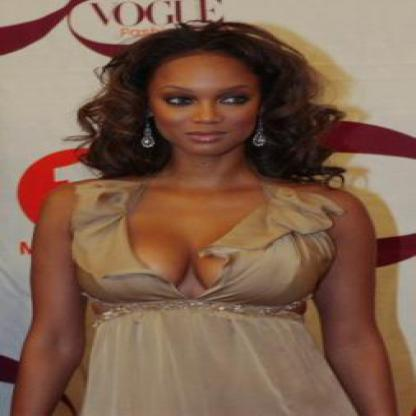face: (148, 40, 263, 158)
